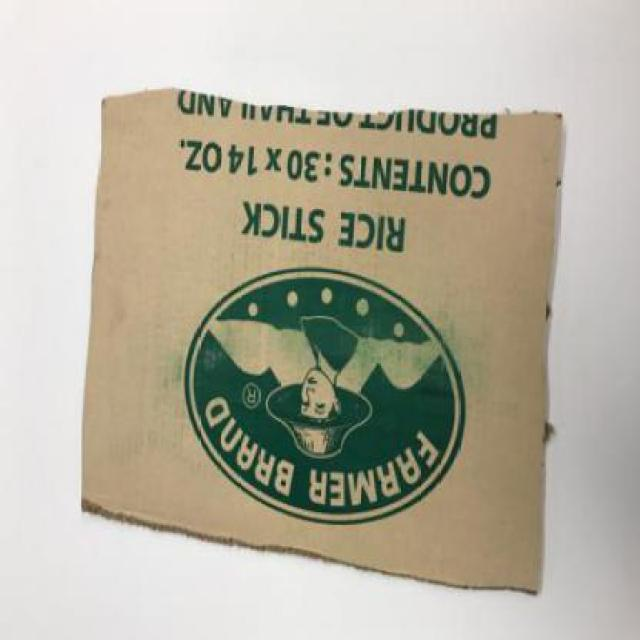box: (76, 77, 578, 605)
